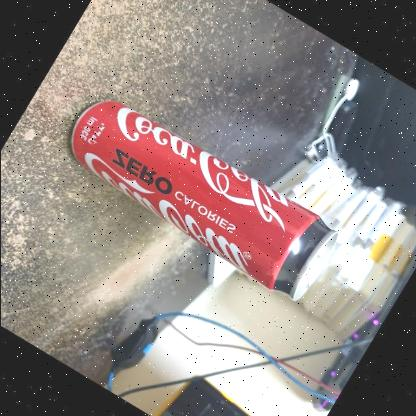Can: (48, 76, 356, 312)
